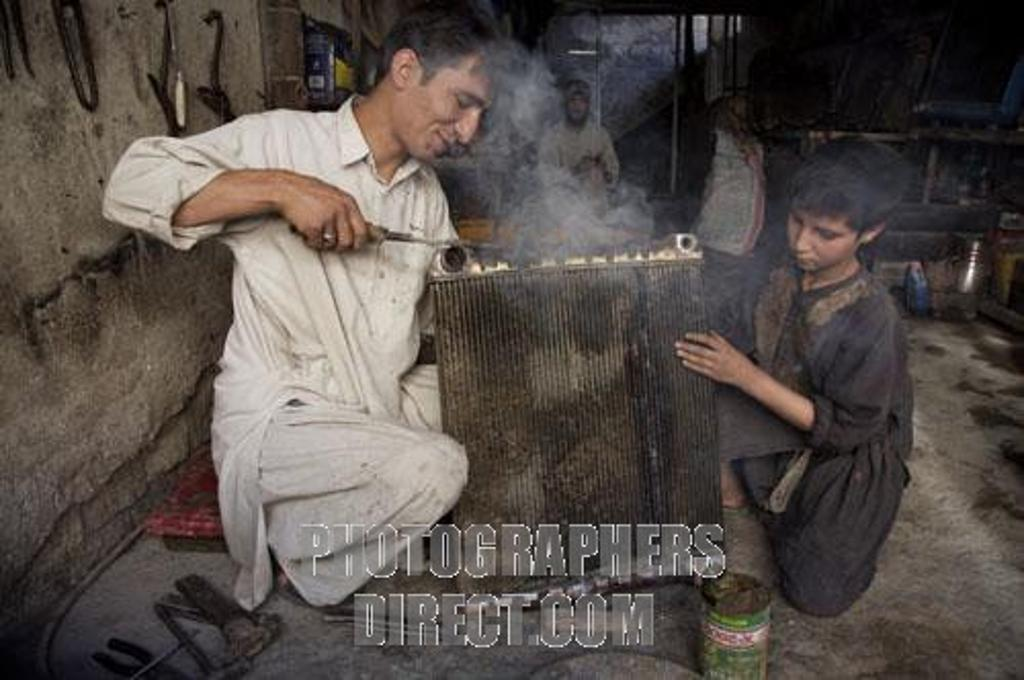face: (416, 40, 500, 160), (786, 176, 856, 272)
